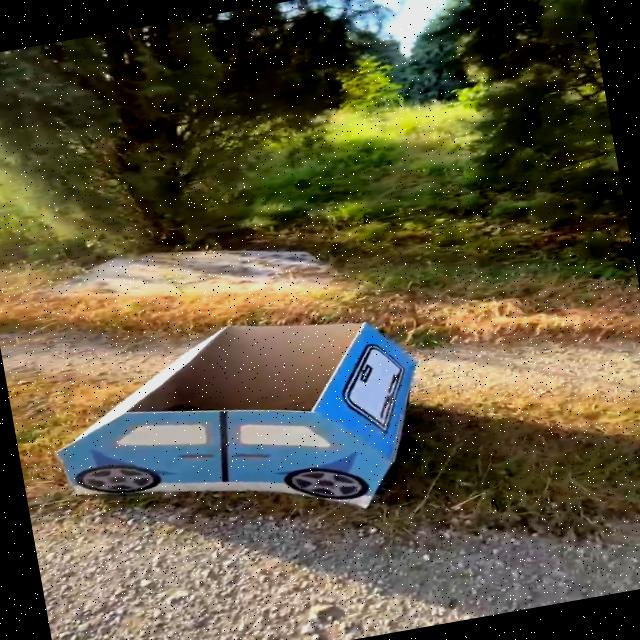blue_car: (3, 250, 491, 586)
